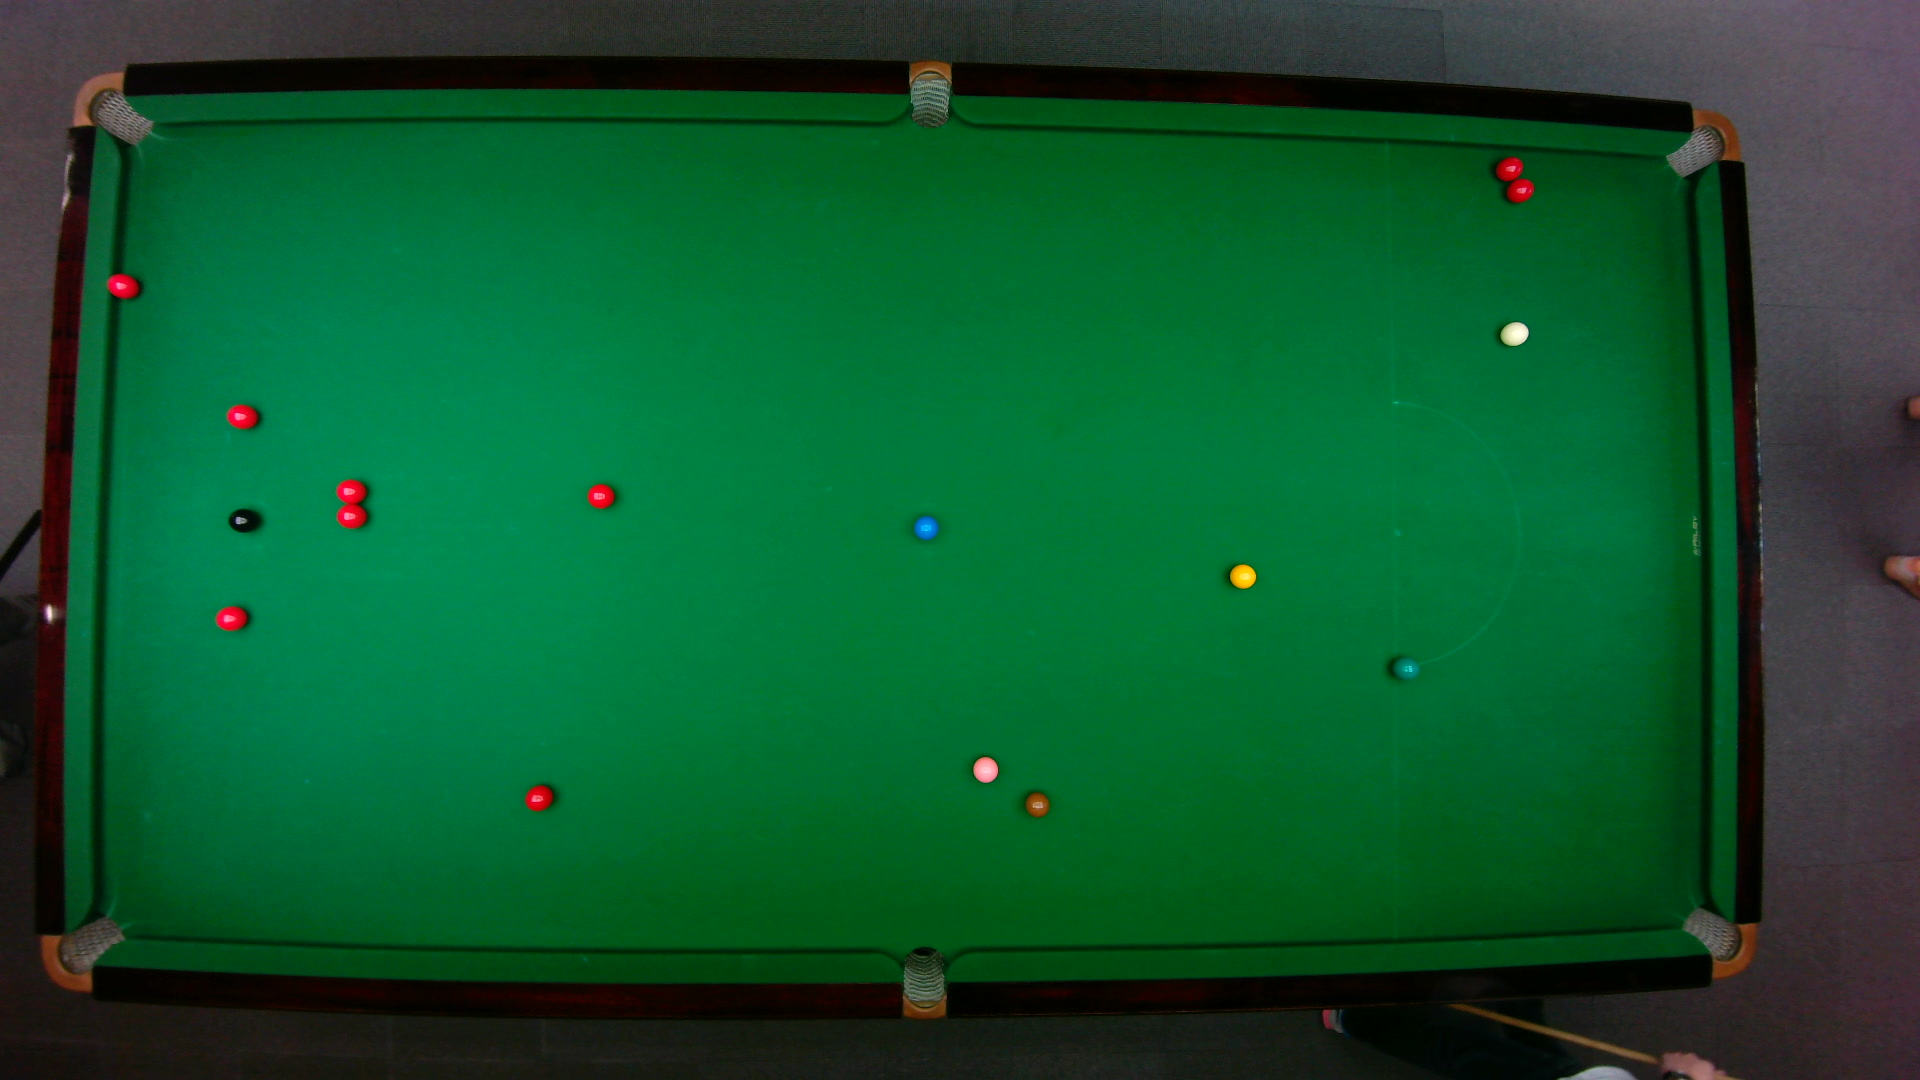bag: (38, 913, 128, 992), (71, 70, 156, 146), (1680, 905, 1760, 980), (1664, 108, 1741, 179), (902, 945, 947, 1021), (909, 59, 952, 131)
black: (227, 506, 261, 534)
blue: (911, 513, 938, 541)
brown: (1023, 790, 1052, 819)
green: (1390, 654, 1420, 680)
pink: (971, 754, 1001, 785)
red: (524, 782, 556, 814), (225, 402, 261, 431), (105, 272, 141, 301), (214, 604, 251, 632), (1493, 154, 1526, 185), (334, 504, 369, 531), (334, 477, 369, 504), (585, 483, 617, 512), (1505, 177, 1538, 204)
white: (1497, 320, 1531, 347)
yellow: (1228, 562, 1258, 591)
zone: (1391, 400, 1519, 667)
